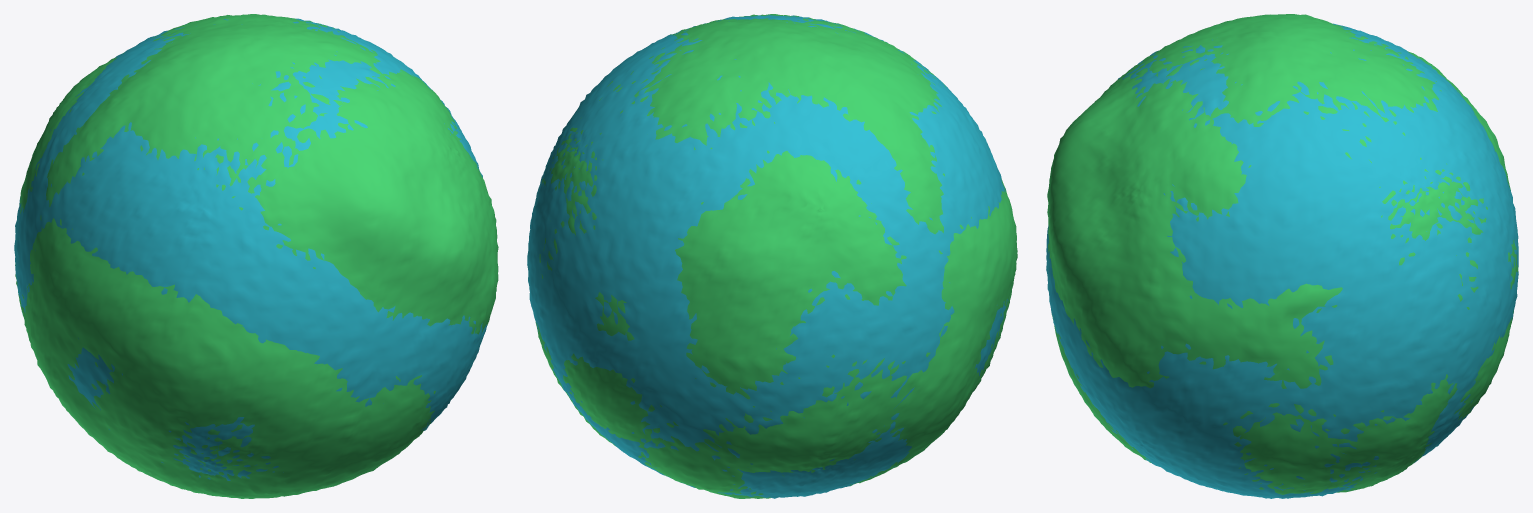
Rendered from SphericalWorld.fbx.
3 views of the same model, side by side, from view 1: azimuth 30°, elevation 25°; view 2: azimuth 150°, elevation 25°; view 3: azimuth 270°, elevation 25° (orthographic).
Parts seen in each view (by area): view 1: Sphere, Water; view 2: Sphere, Water; view 3: Water, Sphere.
Boxes of the visible parts, x1,y1,x2,y2 form: Sphere: [15, 14, 498, 498]; Water: [14, 18, 486, 480]; Sphere: [535, 14, 1017, 498]; Water: [527, 15, 1008, 498]; Water: [1046, 23, 1518, 498]; Sphere: [1047, 14, 1518, 494].
Size of the model in its own units: 50.48 by 50.61 by 49.94.
